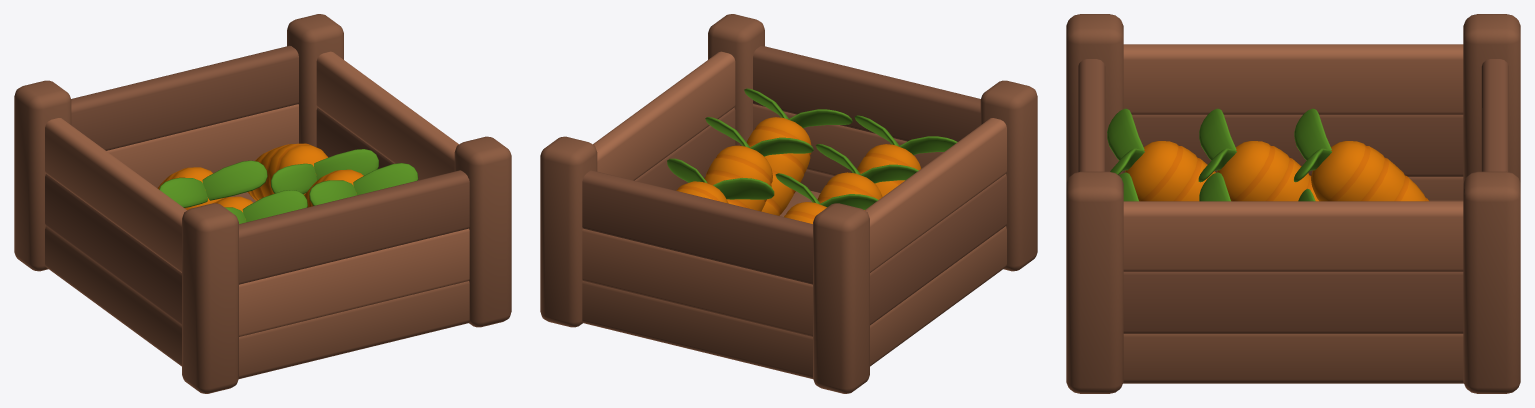
The model's file is prop15.fbx.
3 renders of one model, left to right at view 1: azimuth 30°, elevation 25°; view 2: azimuth 150°, elevation 25°; view 3: azimuth 270°, elevation 25°, orthographic. The views are drawn at different scales.
Visible parts, largest first — view 1: Cube.115; view 2: Cube.115; view 3: Cube.115.
Boxes of the visible parts, x1,y1,x2,y2 form: Cube.115: [14, 14, 511, 393]; Cube.115: [540, 14, 1037, 393]; Cube.115: [1066, 14, 1520, 393].
Bounding box in the file's own units: 0.8745 × 0.9243 × 0.4643.
